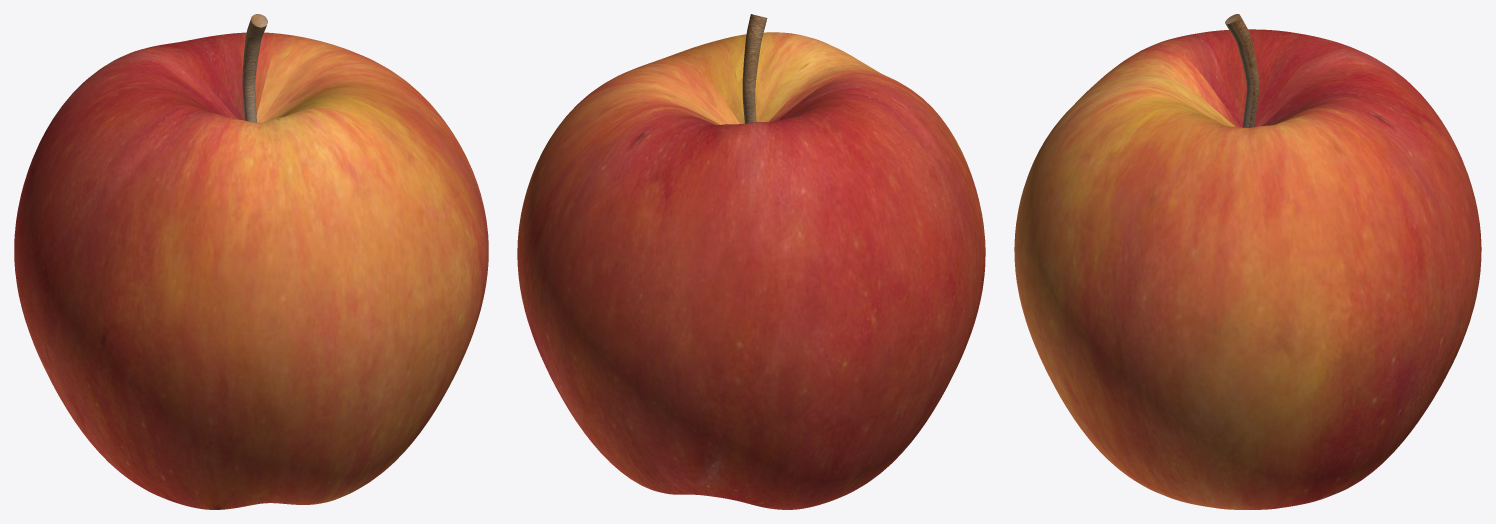
The model's file is apple.fbx.
The picture shows the model from 3 angles, left to right: view 1: azimuth 30°, elevation 25°; view 2: azimuth 150°, elevation 25°; view 3: azimuth 270°, elevation 25°; orthographic projection.
Parts seen in each view (by area): view 1: Sphere, Cylinder; view 2: Sphere, Cylinder; view 3: Sphere, Cylinder.
Part boxes in pixels (bbox=[...]): Sphere: bbox=[14, 32, 488, 509]; Cylinder: bbox=[242, 14, 267, 122]; Sphere: bbox=[517, 32, 985, 509]; Cylinder: bbox=[742, 14, 767, 123]; Sphere: bbox=[1014, 29, 1481, 509]; Cylinder: bbox=[1225, 14, 1259, 127].
Size of the model in its own units: 205 by 219 by 205.
2 materials, 2 textured.
